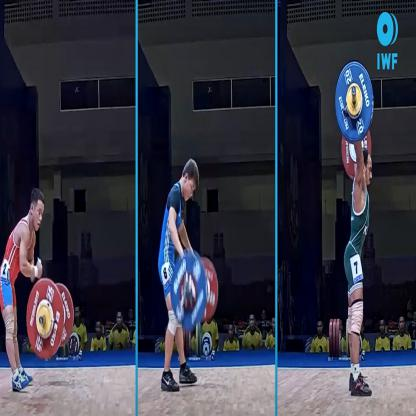Barbell: (166, 245, 210, 332), (24, 274, 67, 361), (334, 58, 376, 146)
